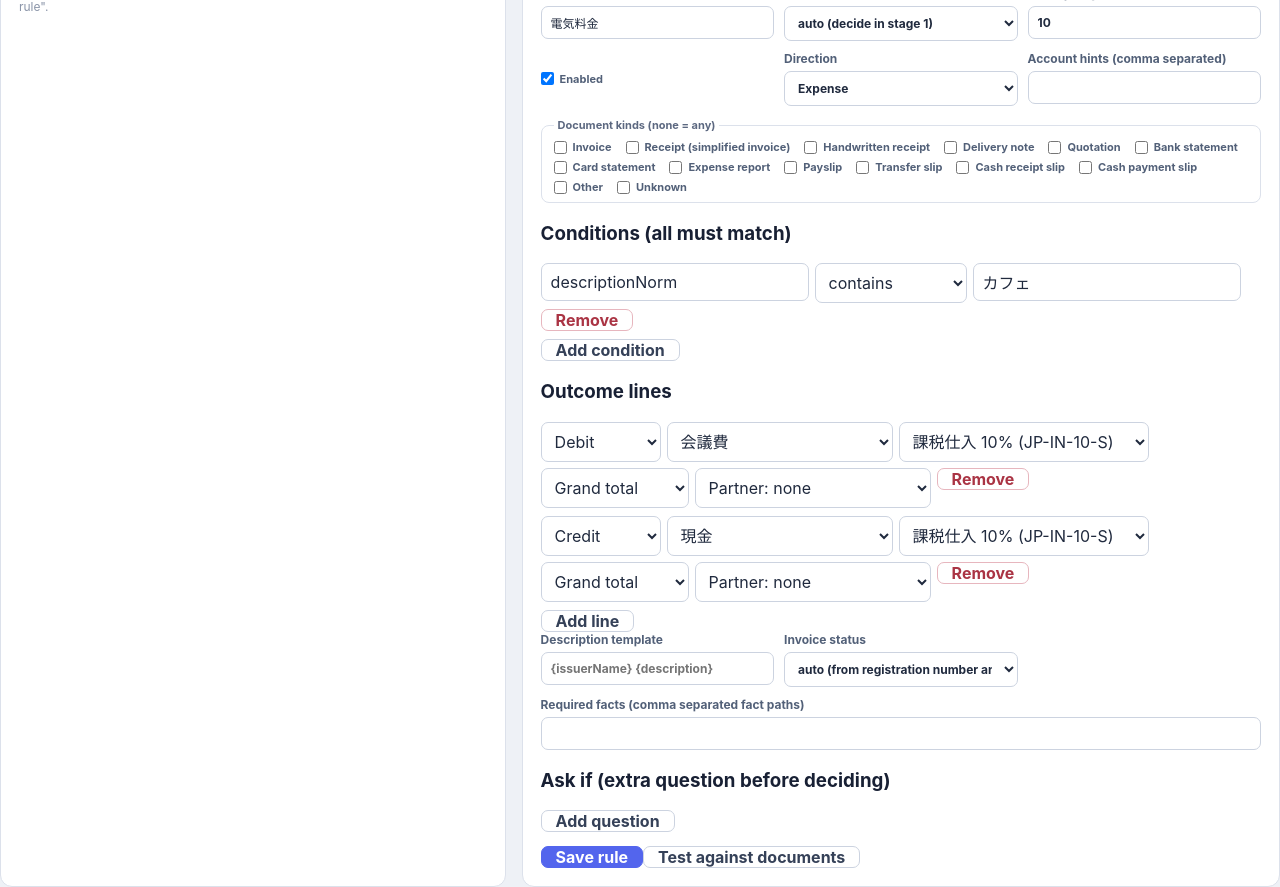
Scenario: RulesTab › 正常: 整ったルールは保存され、次の一手（再判定）を案内する
(page scrolled)
Click the button "Save rule".
click(592, 857)  # box [541,846,643,868]
(page scrolled)
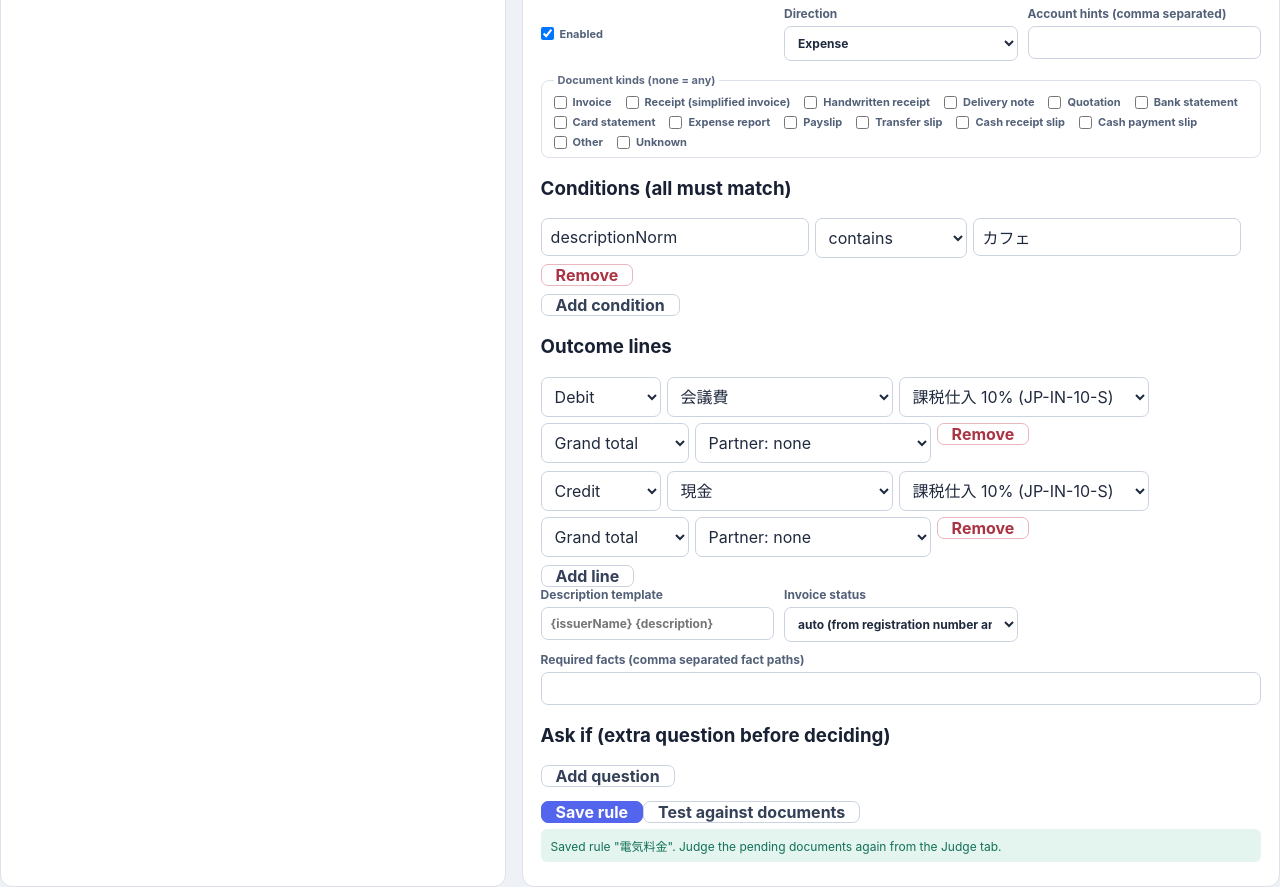
Result: the text "Saved rule \"電気料金\". Judge the pending documents again from the Judge tab." is shown at [541,829,1261,862]
